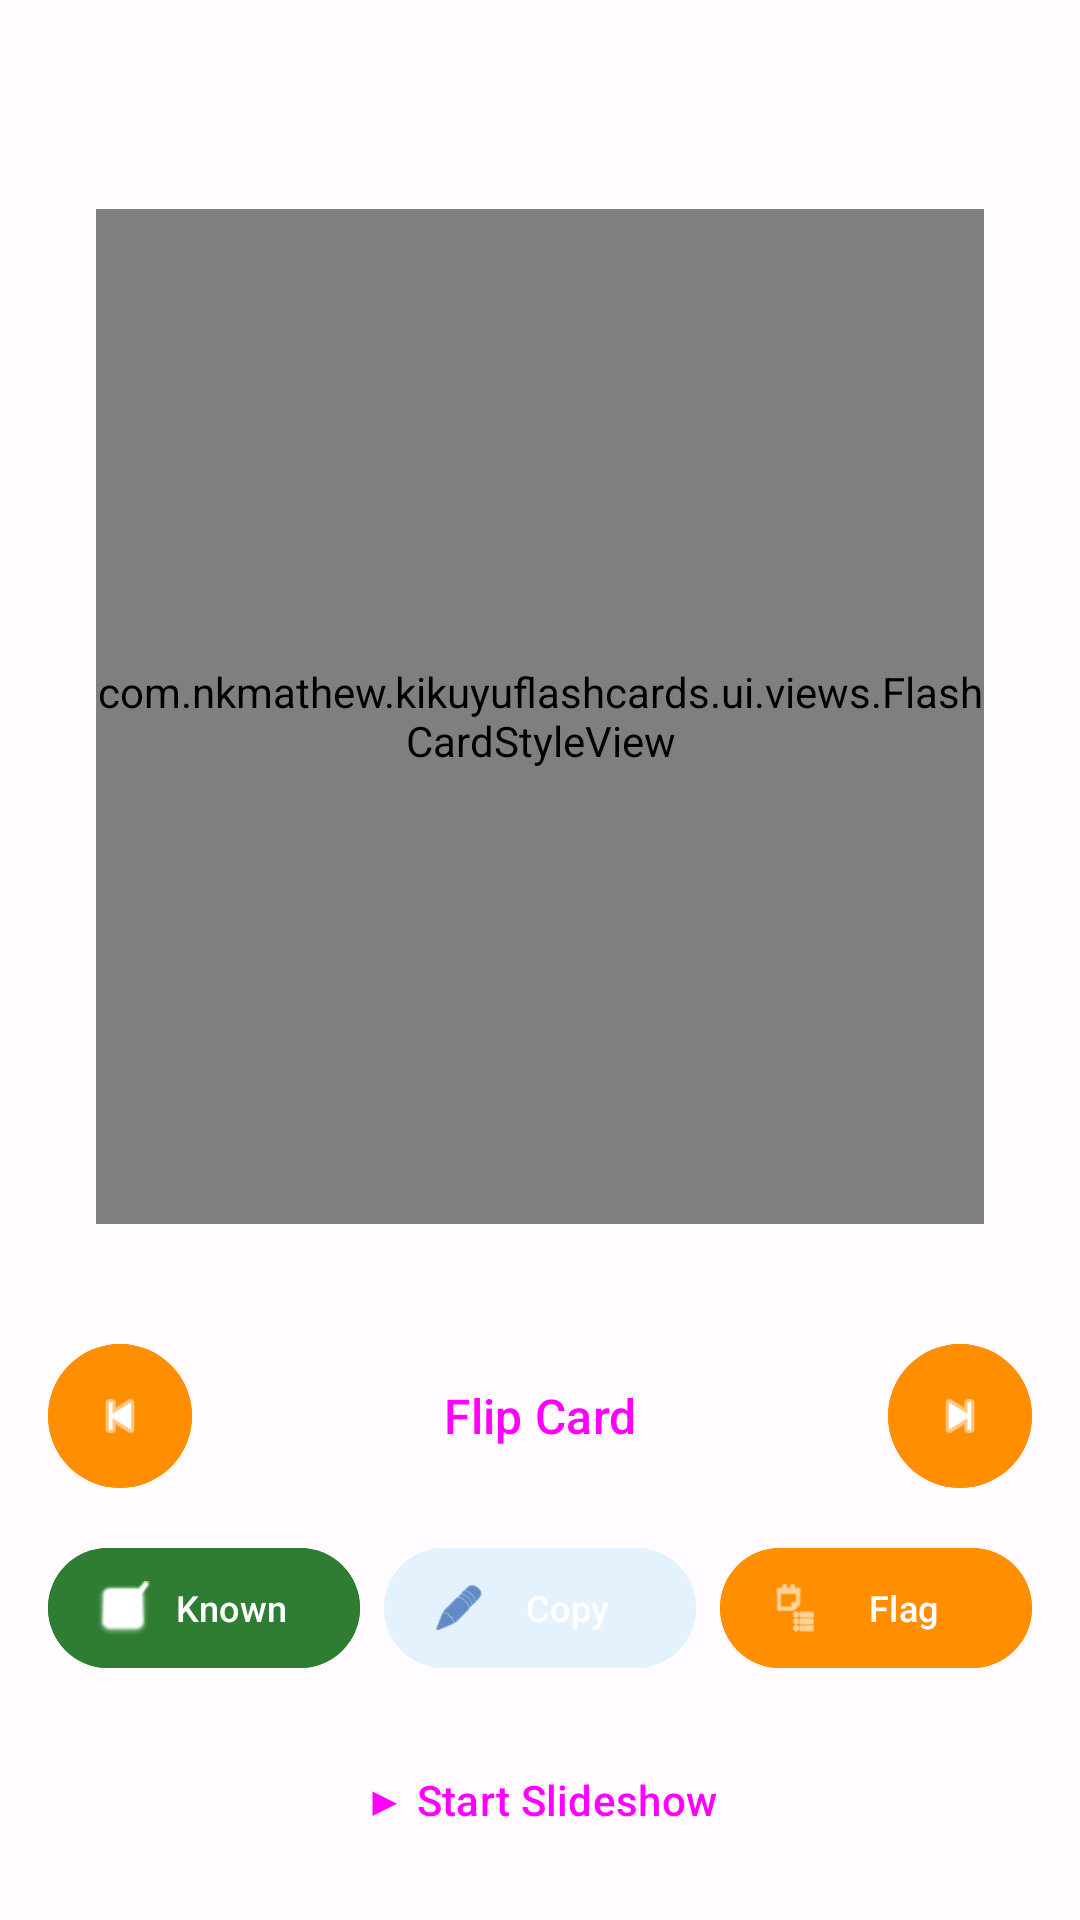

Where icons sit on this 1080w x 1920h app screen, as bbox(x1, y1, x2, y2):
next: bbox(888, 1344, 1032, 1488)
previous: bbox(48, 1344, 192, 1488)
